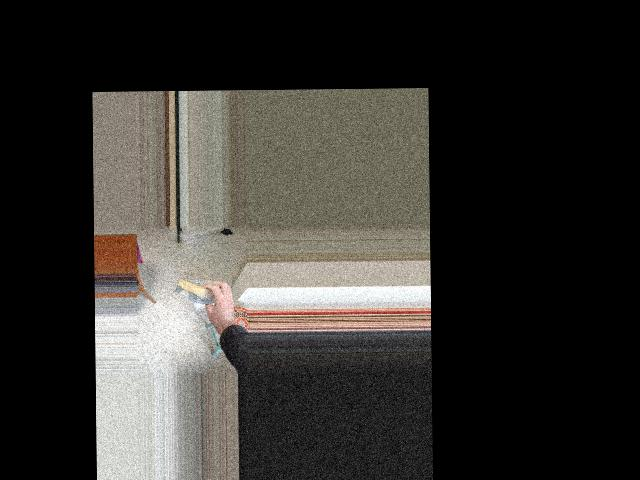cheese: (171, 278, 232, 306)
